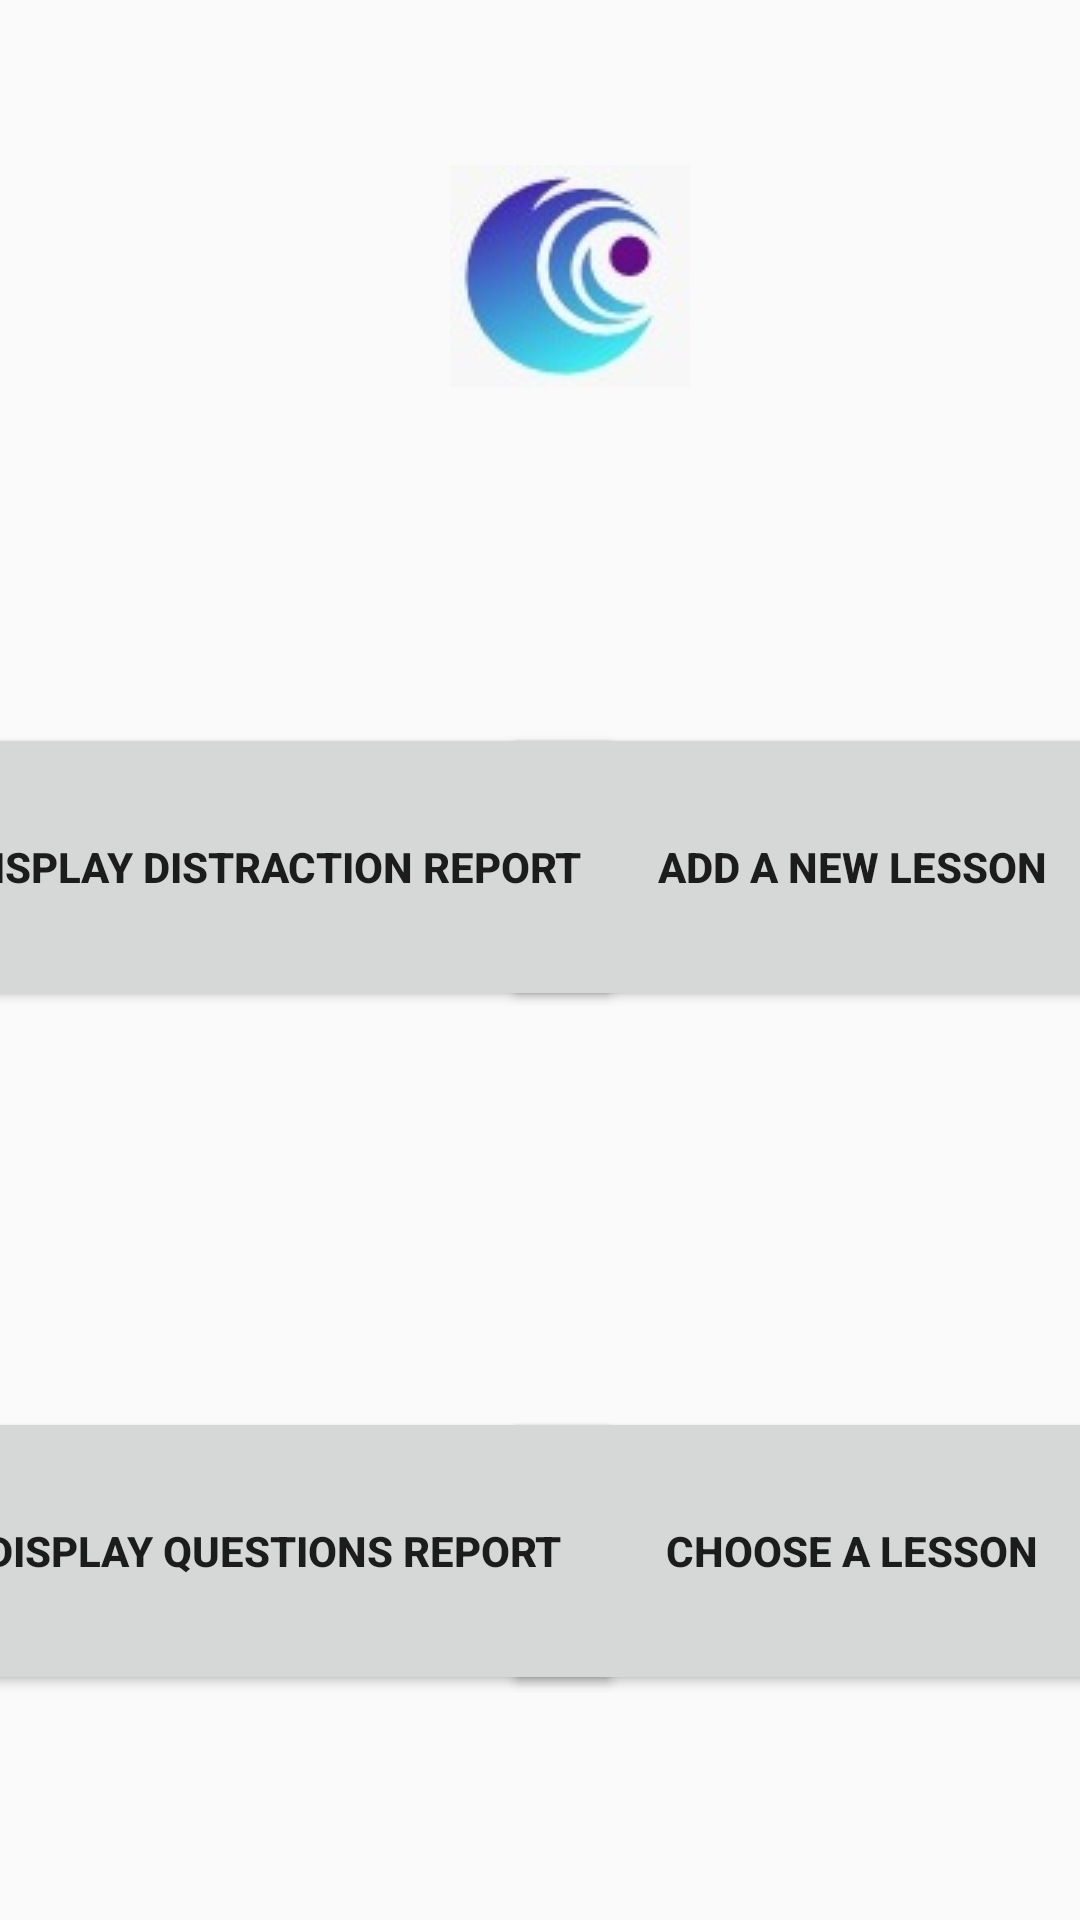

Icon click points for this 1080px x 1920px phone screenshot, format (x,y):
appicon: (561,277)
